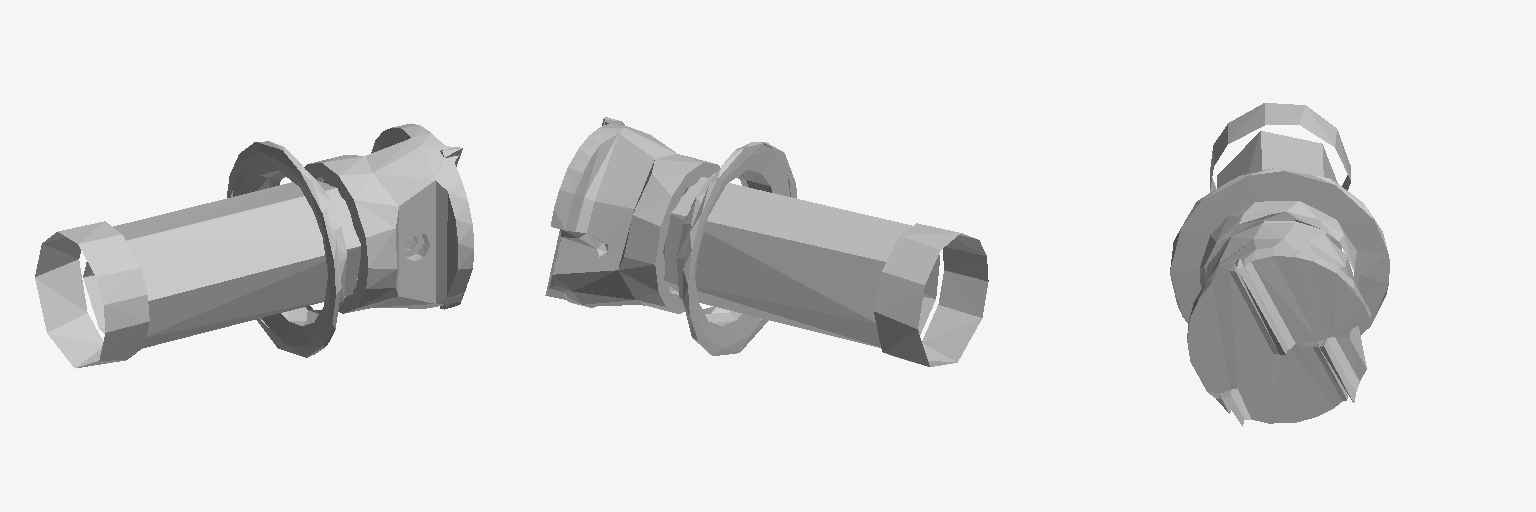
The model's file is LaunchBitInTurretAtZeroFeed.obj.
3 renders of one model, left to right at view 1: azimuth 30°, elevation 25°; view 2: azimuth 150°, elevation 25°; view 3: azimuth 270°, elevation 25°, orthographic.
Visible parts, largest first — view 1: LaunchBitInTurretAtZeroFeed.obj; view 2: LaunchBitInTurretAtZeroFeed.obj; view 3: LaunchBitInTurretAtZeroFeed.obj.
Boxes of the visible parts, x1=… form: LaunchBitInTurretAtZeroFeed.obj: x1=35, y1=123, x2=473, y2=368; LaunchBitInTurretAtZeroFeed.obj: x1=545, y1=117, x2=988, y2=366; LaunchBitInTurretAtZeroFeed.obj: x1=1170, y1=103, x2=1389, y2=426.
Size of the model in its own units: 0.1107 by 0.0574 by 0.0569.